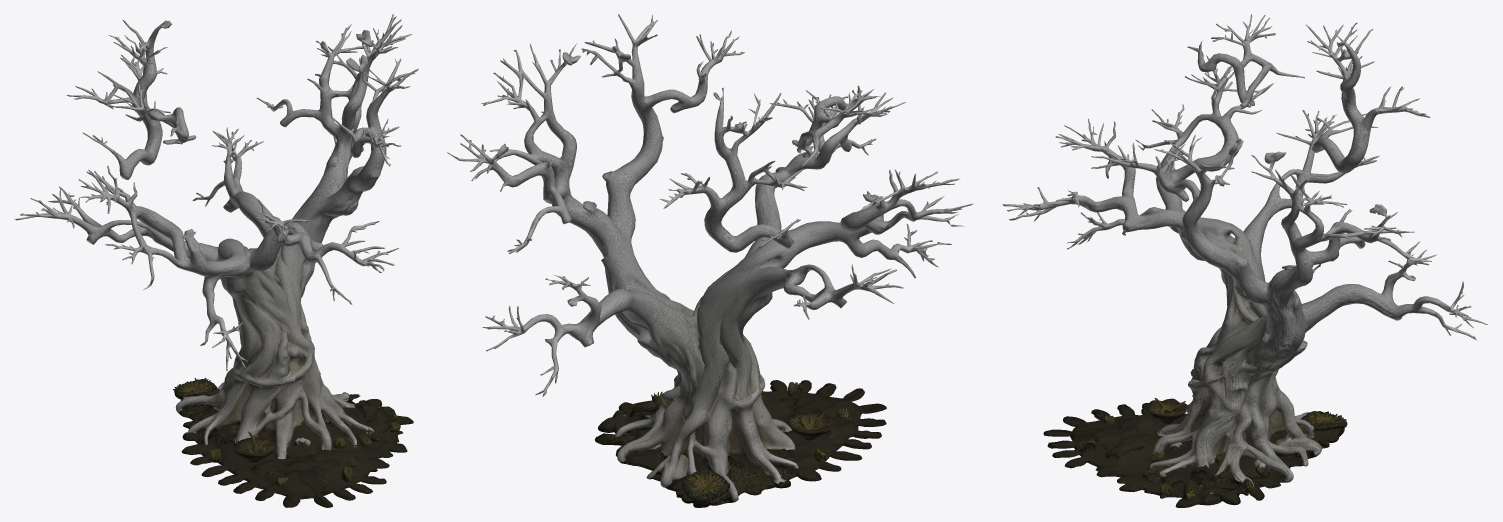
File: twisted_tree_3d_model.fbx
The picture shows the model from 3 angles, left to right: view 1: azimuth 30°, elevation 25°; view 2: azimuth 150°, elevation 25°; view 3: azimuth 270°, elevation 25°; orthographic projection. The views are drawn at different scales.
Parts seen in each view (by area): view 1: tripo_part_0, tripo_part_1, tripo_part_14, tripo_part_9, tripo_part_3, tripo_part_12, tripo_part_17, tripo_part_15, tripo_part_8, tripo_part_19, tripo_part_2, tripo_part_7 (+4 smaller); view 2: tripo_part_0, tripo_part_3, tripo_part_14, tripo_part_1, tripo_part_9, tripo_part_15, tripo_part_2, tripo_part_4, tripo_part_6, tripo_part_5, tripo_part_17, tripo_part_8 (+2 smaller); view 3: tripo_part_0, tripo_part_1, tripo_part_14, tripo_part_15, tripo_part_5, tripo_part_8, tripo_part_4, tripo_part_19, tripo_part_2, tripo_part_9, tripo_part_12, tripo_part_7 (+2 smaller).
Boxes of the visible parts, x1,y1,x2,y2 form: tripo_part_0: (14, 14, 418, 445); tripo_part_1: (233, 441, 407, 507); tripo_part_14: (67, 20, 171, 179); tripo_part_9: (181, 394, 369, 482); tripo_part_3: (186, 322, 262, 444); tripo_part_12: (253, 362, 331, 458); tripo_part_17: (235, 385, 283, 443); tripo_part_15: (106, 83, 196, 144); tripo_part_8: (341, 399, 413, 442); tripo_part_19: (310, 434, 391, 482); tripo_part_2: (173, 377, 224, 414); tripo_part_7: (233, 431, 275, 462); tripo_part_0: (447, 14, 972, 456); tripo_part_3: (688, 309, 798, 482); tripo_part_14: (659, 87, 807, 252); tripo_part_1: (761, 380, 886, 438); tripo_part_9: (595, 420, 862, 481); tripo_part_15: (792, 85, 881, 166); tripo_part_2: (675, 432, 738, 507); tripo_part_4: (660, 365, 708, 487); tripo_part_6: (652, 445, 782, 507); tripo_part_5: (615, 386, 680, 463); tripo_part_17: (752, 394, 795, 450); tripo_part_8: (598, 391, 662, 433); tripo_part_0: (1002, 55, 1487, 478); tripo_part_1: (1043, 404, 1158, 491); tripo_part_14: (1306, 22, 1429, 173); tripo_part_15: (1187, 14, 1304, 107); tripo_part_5: (1214, 400, 1293, 488); tripo_part_8: (1140, 460, 1241, 507); tripo_part_4: (1259, 369, 1321, 458); tripo_part_19: (1087, 437, 1158, 487); tripo_part_2: (1276, 407, 1347, 448); tripo_part_9: (1133, 413, 1264, 500); tripo_part_12: (1153, 387, 1210, 456); tripo_part_7: (1146, 398, 1187, 423).
Size of the model in its own units: 0.8485 by 0.821 by 0.9242.
